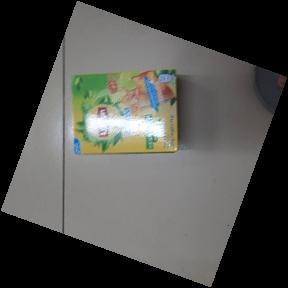LipTon: (69, 67, 181, 158)
